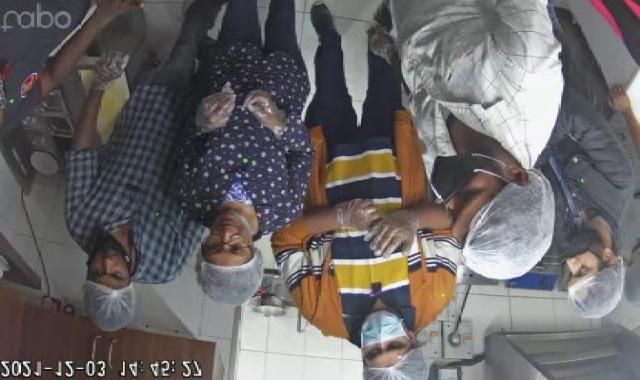hairnet: (466, 166, 558, 286), (560, 250, 636, 318), (194, 250, 266, 308), (357, 343, 439, 380), (82, 279, 141, 328)
